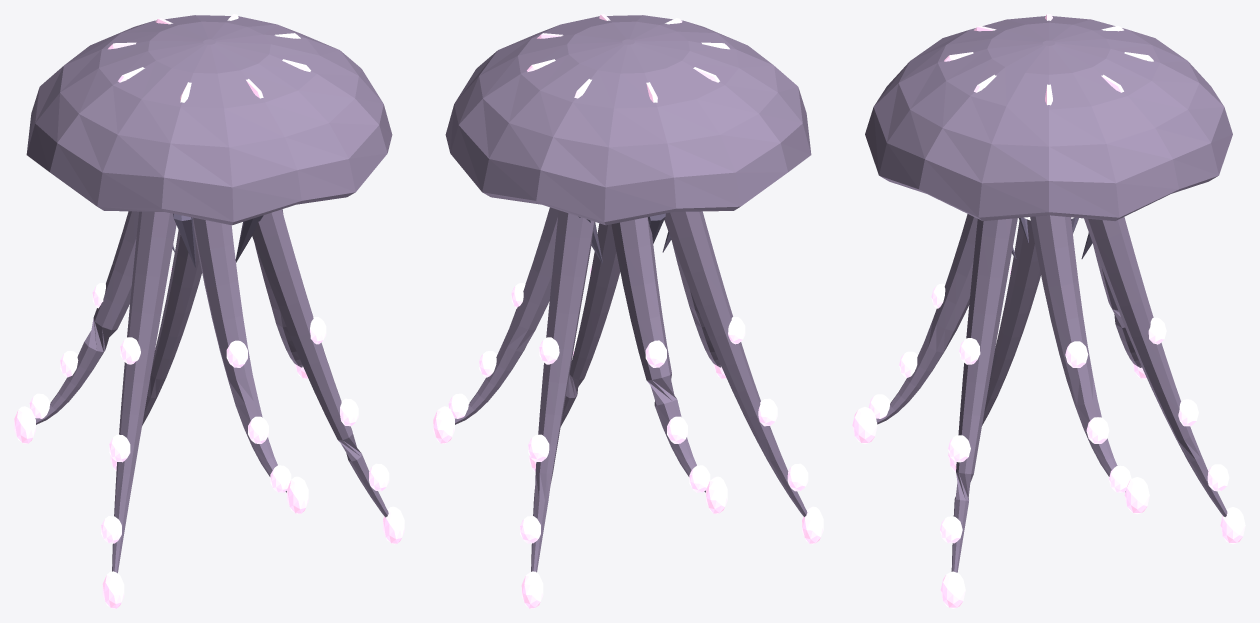
File: flying-lantern-medusa-v1.glb
3 renders of one model, left to right at view 1: azimuth 30°, elevation 25°; view 2: azimuth 150°, elevation 25°; view 3: azimuth 270°, elevation 25°, orthographic.
Parts seen in each view (by area): view 1: bell, tendril_04, tendril_06, tendril_05, tendril_03, tendril_02, tendril, tendril_tip_04, tendril_tip_03, tendril_tip_05, tendril_tip_06, beak_mandible_04; view 2: bell, tendril_02, tendril_04, tendril_03, tendril, tendril_06, tendril_05, tendril_tip_02, tendril_tip, tendril_tip_03, tendril_tip_04; view 3: bell, tendril_06, tendril_02, tendril, tendril_05, tendril_04, tendril_03, tendril_tip_06, tendril_tip, tendril_tip_05, tendril_tip_02.
Boxes of the visible parts, x1=… form: bell: x1=26, y1=15, x2=392, y2=225; tendril_04: x1=112, y1=211, x2=176, y2=573; tendril_06: x1=252, y1=209, x2=388, y2=517; tendril_05: x1=192, y1=217, x2=286, y2=492; tendril_03: x1=35, y1=211, x2=138, y2=424; tendril_02: x1=142, y1=230, x2=201, y2=425; tendril: x1=254, y1=209, x2=302, y2=367; tendril_tip_04: x1=102, y1=571, x2=124, y2=608; tendril_tip_03: x1=14, y1=406, x2=35, y2=443; tendril_tip_05: x1=287, y1=476, x2=308, y2=513; tendril_tip_06: x1=383, y1=506, x2=404, y2=544; beak_mandible_04: x1=173, y1=213, x2=195, y2=267; bell: x1=445, y1=15, x2=811, y2=225; tendril_02: x1=531, y1=210, x2=594, y2=572; tendril_04: x1=664, y1=211, x2=807, y2=516; tendril_03: x1=611, y1=217, x2=705, y2=492; tendril: x1=455, y1=207, x2=558, y2=424; tendril_06: x1=560, y1=223, x2=620, y2=426; tendril_05: x1=672, y1=242, x2=721, y2=367; tendril_tip_02: x1=521, y1=571, x2=543, y2=608; tendril_tip: x1=433, y1=406, x2=454, y2=443; tendril_tip_03: x1=706, y1=476, x2=727, y2=513; tendril_tip_04: x1=802, y1=506, x2=823, y2=544; bell: x1=865, y1=16, x2=1232, y2=220; tendril_06: x1=951, y1=218, x2=1017, y2=572; tendril_02: x1=1084, y1=217, x2=1227, y2=516; tendril: x1=1030, y1=215, x2=1125, y2=491; tendril_05: x1=876, y1=214, x2=977, y2=424; tendril_04: x1=982, y1=219, x2=1040, y2=425; tendril_03: x1=1093, y1=244, x2=1141, y2=367; tendril_tip_06: x1=940, y1=571, x2=965, y2=608; tendril_tip: x1=1124, y1=477, x2=1149, y2=514; tendril_tip_05: x1=852, y1=407, x2=877, y2=443; tendril_tip_02: x1=1220, y1=507, x2=1245, y2=544.
Bounding box in the file's own units: 3.2 × 4.79 × 3.42.
